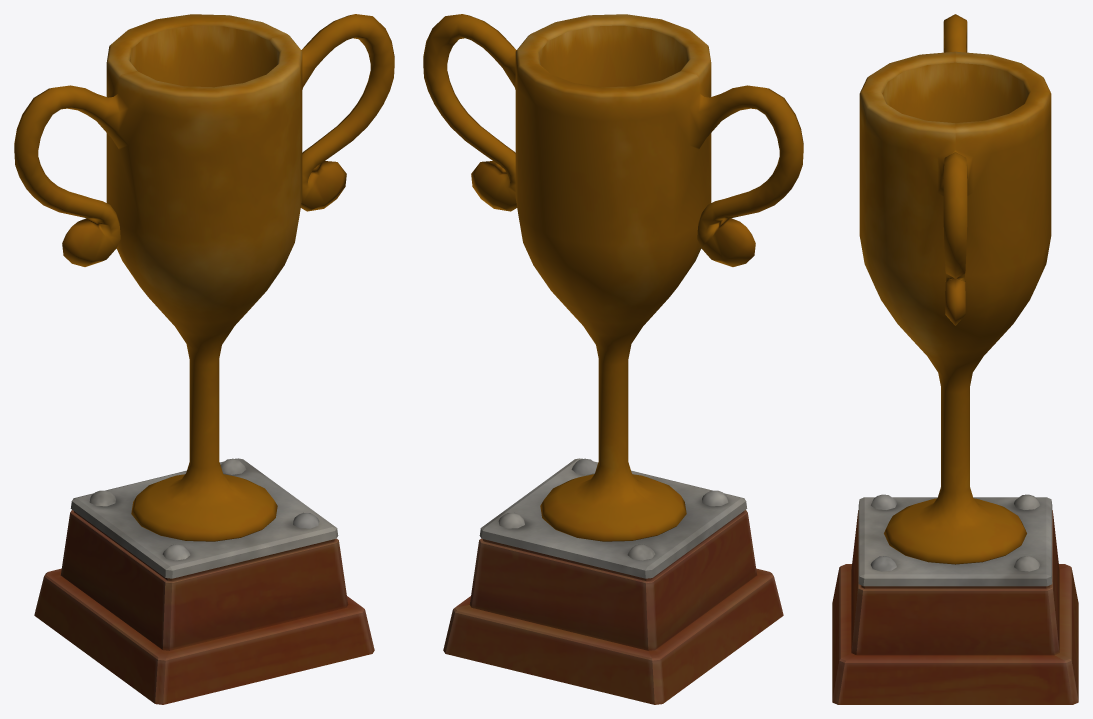
Rendered from sb_obj_indoor014_Trophy03.fbx.
3 renders of one model, left to right at view 1: azimuth 30°, elevation 25°; view 2: azimuth 150°, elevation 25°; view 3: azimuth 270°, elevation 25°, orthographic. The views are drawn at different scales.
Parts seen in each view (by area): view 1: sb_obj_indoor014_Trophy03; view 2: sb_obj_indoor014_Trophy03; view 3: sb_obj_indoor014_Trophy03.
Part boxes in pixels (x1=…): sb_obj_indoor014_Trophy03: x1=14, y1=14, x2=394, y2=704; sb_obj_indoor014_Trophy03: x1=423, y1=14, x2=803, y2=704; sb_obj_indoor014_Trophy03: x1=832, y1=14, x2=1078, y2=704.
Bounding box in the file's own units: 0.2909 × 0.4253 × 0.168.
